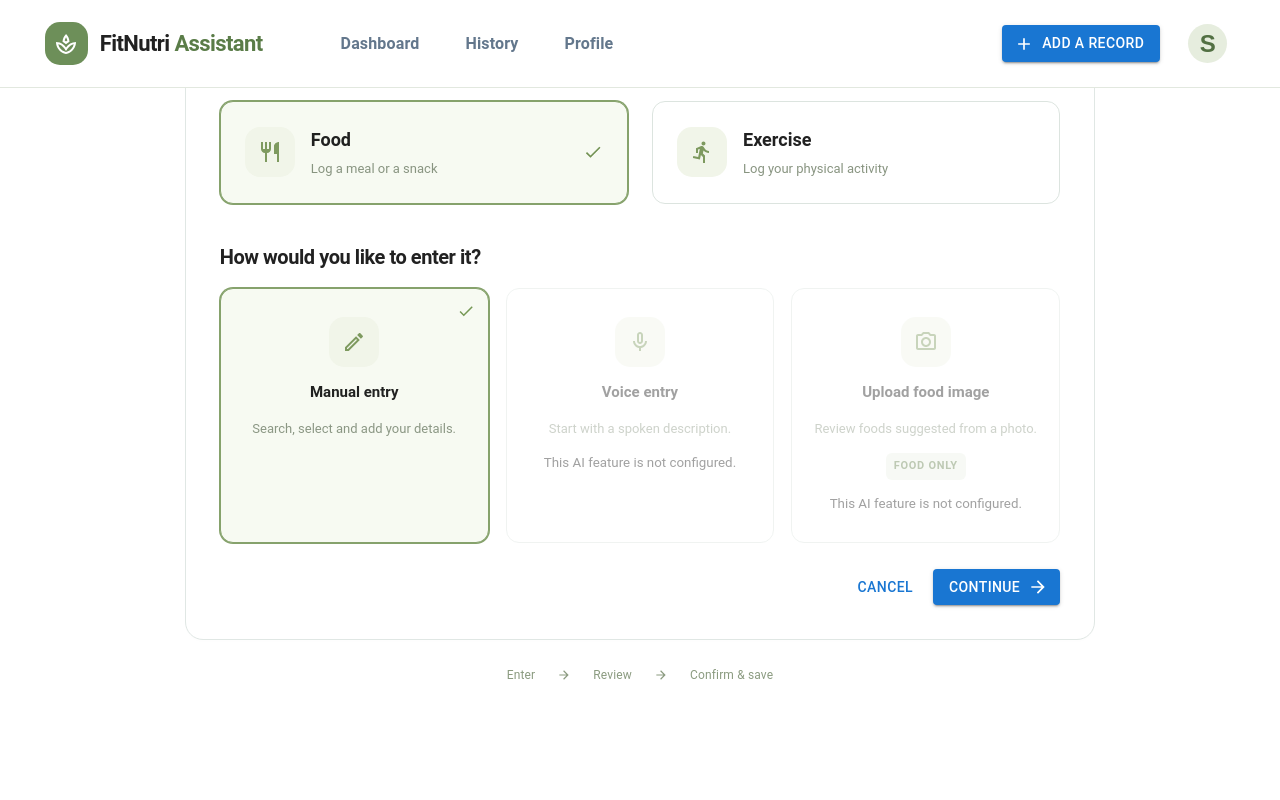
F10 Add → Entry → Review router integration › starts real manual food editing without a discard prompt and keeps unavailable AI methods disabled
The width and height of the screenshot is (1280, 800).
(page scrolled)
Expected: the button "Voice entry Start" is disabled, [506,288,774,543]
Expected: the button "Upload food image Review" is disabled, [791,288,1060,543]
Click the button "Continue". click: (997, 587)
box: [933,569,1060,605]
(page scrolled)
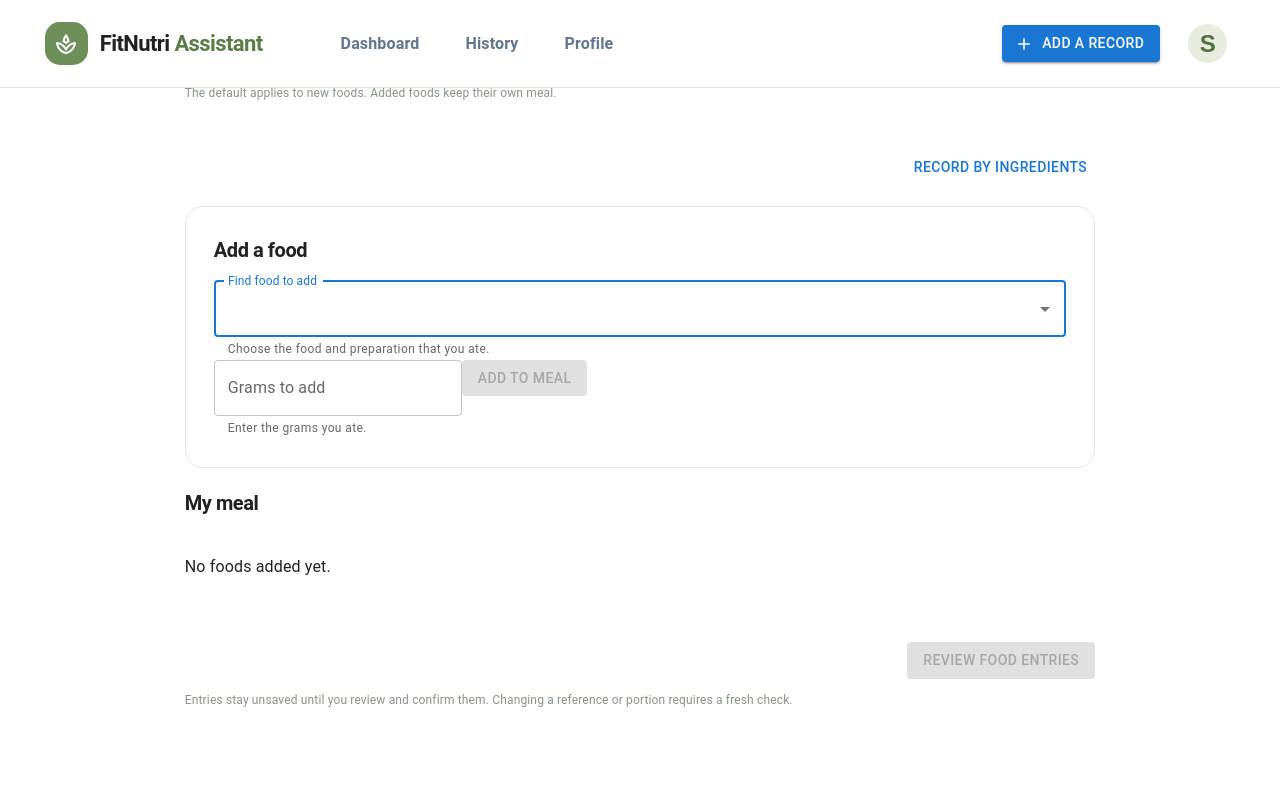
Expected: the button "Add to meal" is disabled, [462,360,587,396]
